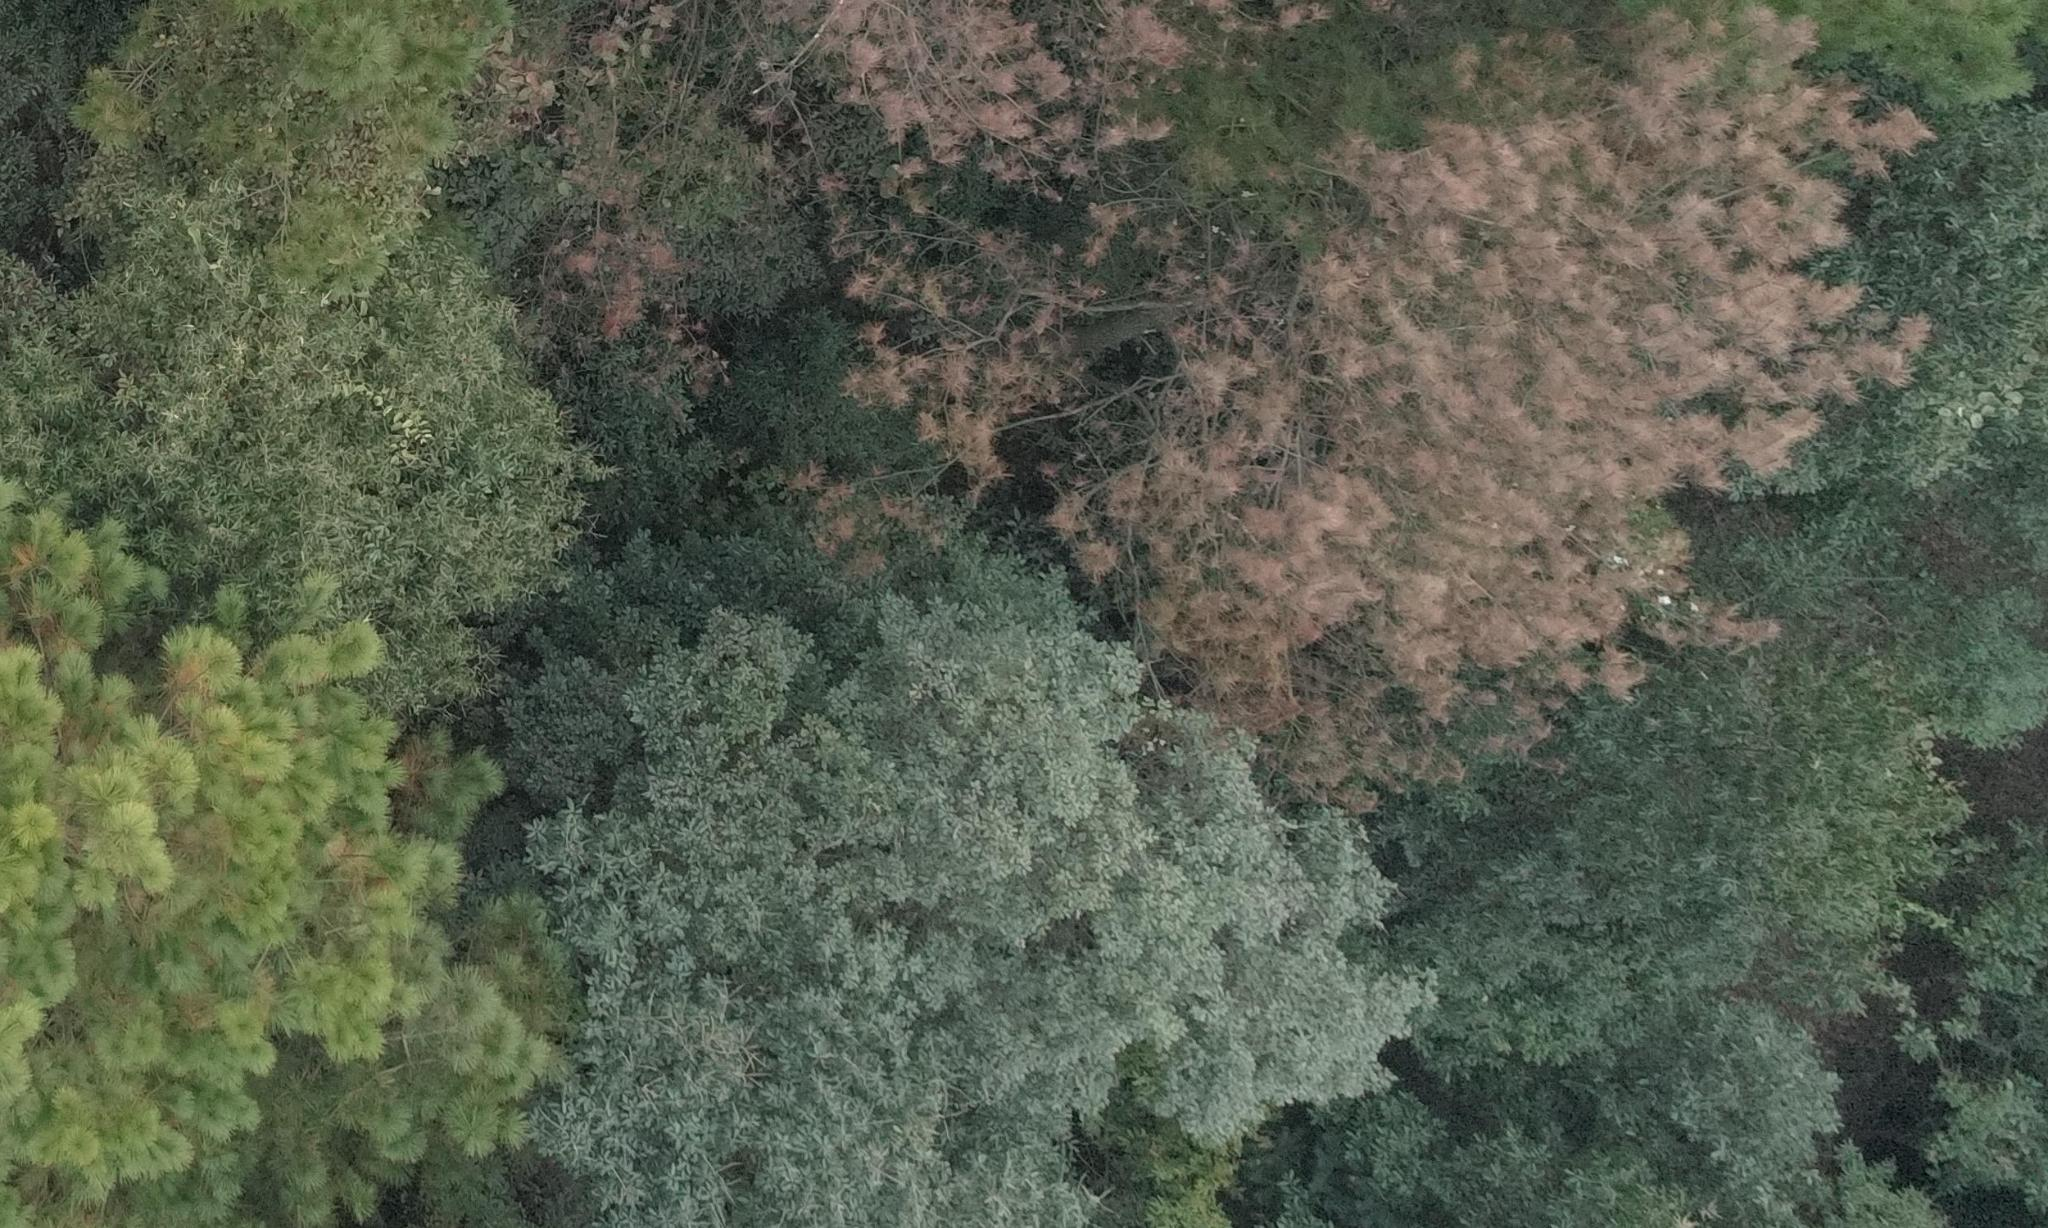heavy: (1133, 57, 1921, 710), (785, 9, 1093, 507), (493, 18, 702, 387)
light: (16, 526, 474, 1120)
